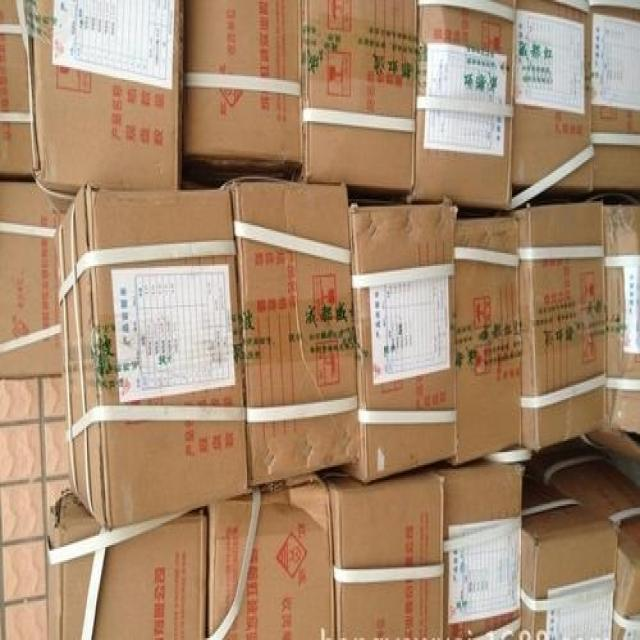box: (54, 184, 250, 534), (223, 177, 360, 486), (27, 0, 186, 221), (347, 197, 457, 484), (507, 205, 607, 450), (45, 487, 205, 640), (404, 0, 516, 207), (300, 0, 417, 190), (535, 433, 640, 640), (207, 473, 337, 640), (326, 465, 447, 640), (183, 0, 300, 169), (449, 218, 522, 467), (520, 469, 620, 640), (438, 454, 522, 640), (512, 0, 594, 190), (0, 182, 61, 376), (589, 0, 640, 190), (603, 207, 640, 432)
